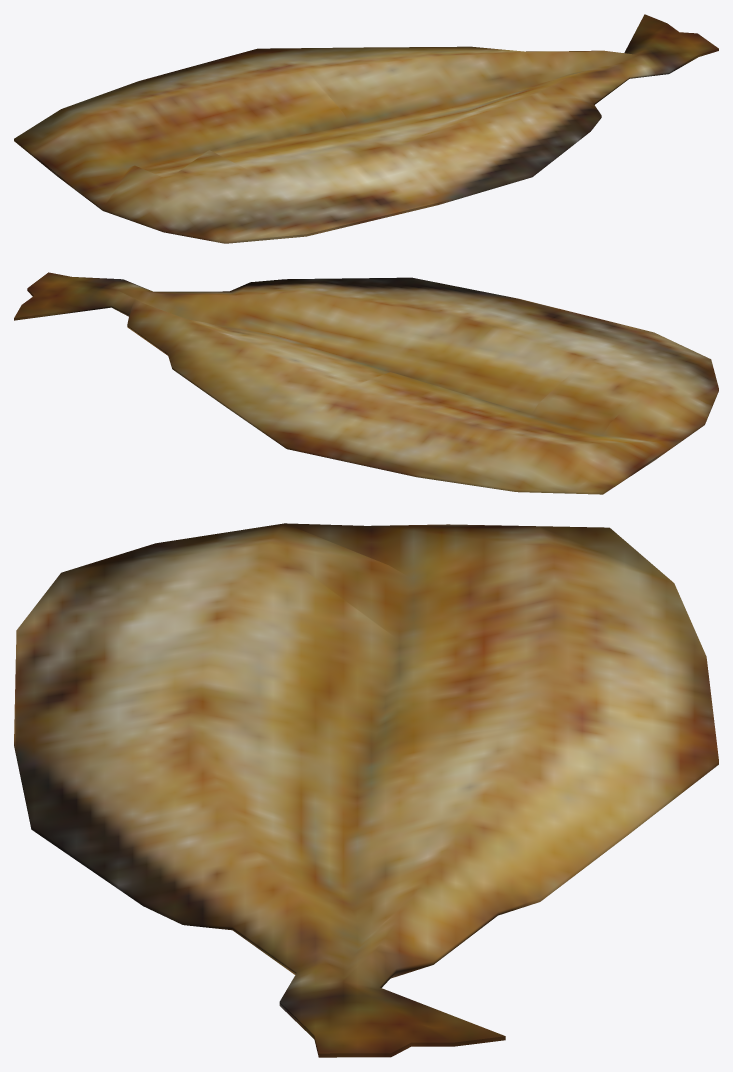
Rendered from dinerfoods12b.fbx.
3 renders of one model, top to bottom at view 1: azimuth 30°, elevation 25°; view 2: azimuth 150°, elevation 25°; view 3: azimuth 270°, elevation 25°, orthographic. The views are drawn at different scales.
Parts seen in each view (by area): view 1: dinerfoods12b; view 2: dinerfoods12b; view 3: dinerfoods12b.
Part boxes in pixels (left/top/right/bottom): dinerfoods12b: left=14, top=14, right=718, bottom=243; dinerfoods12b: left=14, top=272, right=718, bottom=494; dinerfoods12b: left=14, top=523, right=718, bottom=1057.
Bounding box in the file's own units: 31.56 × 1.28 × 17.74.
